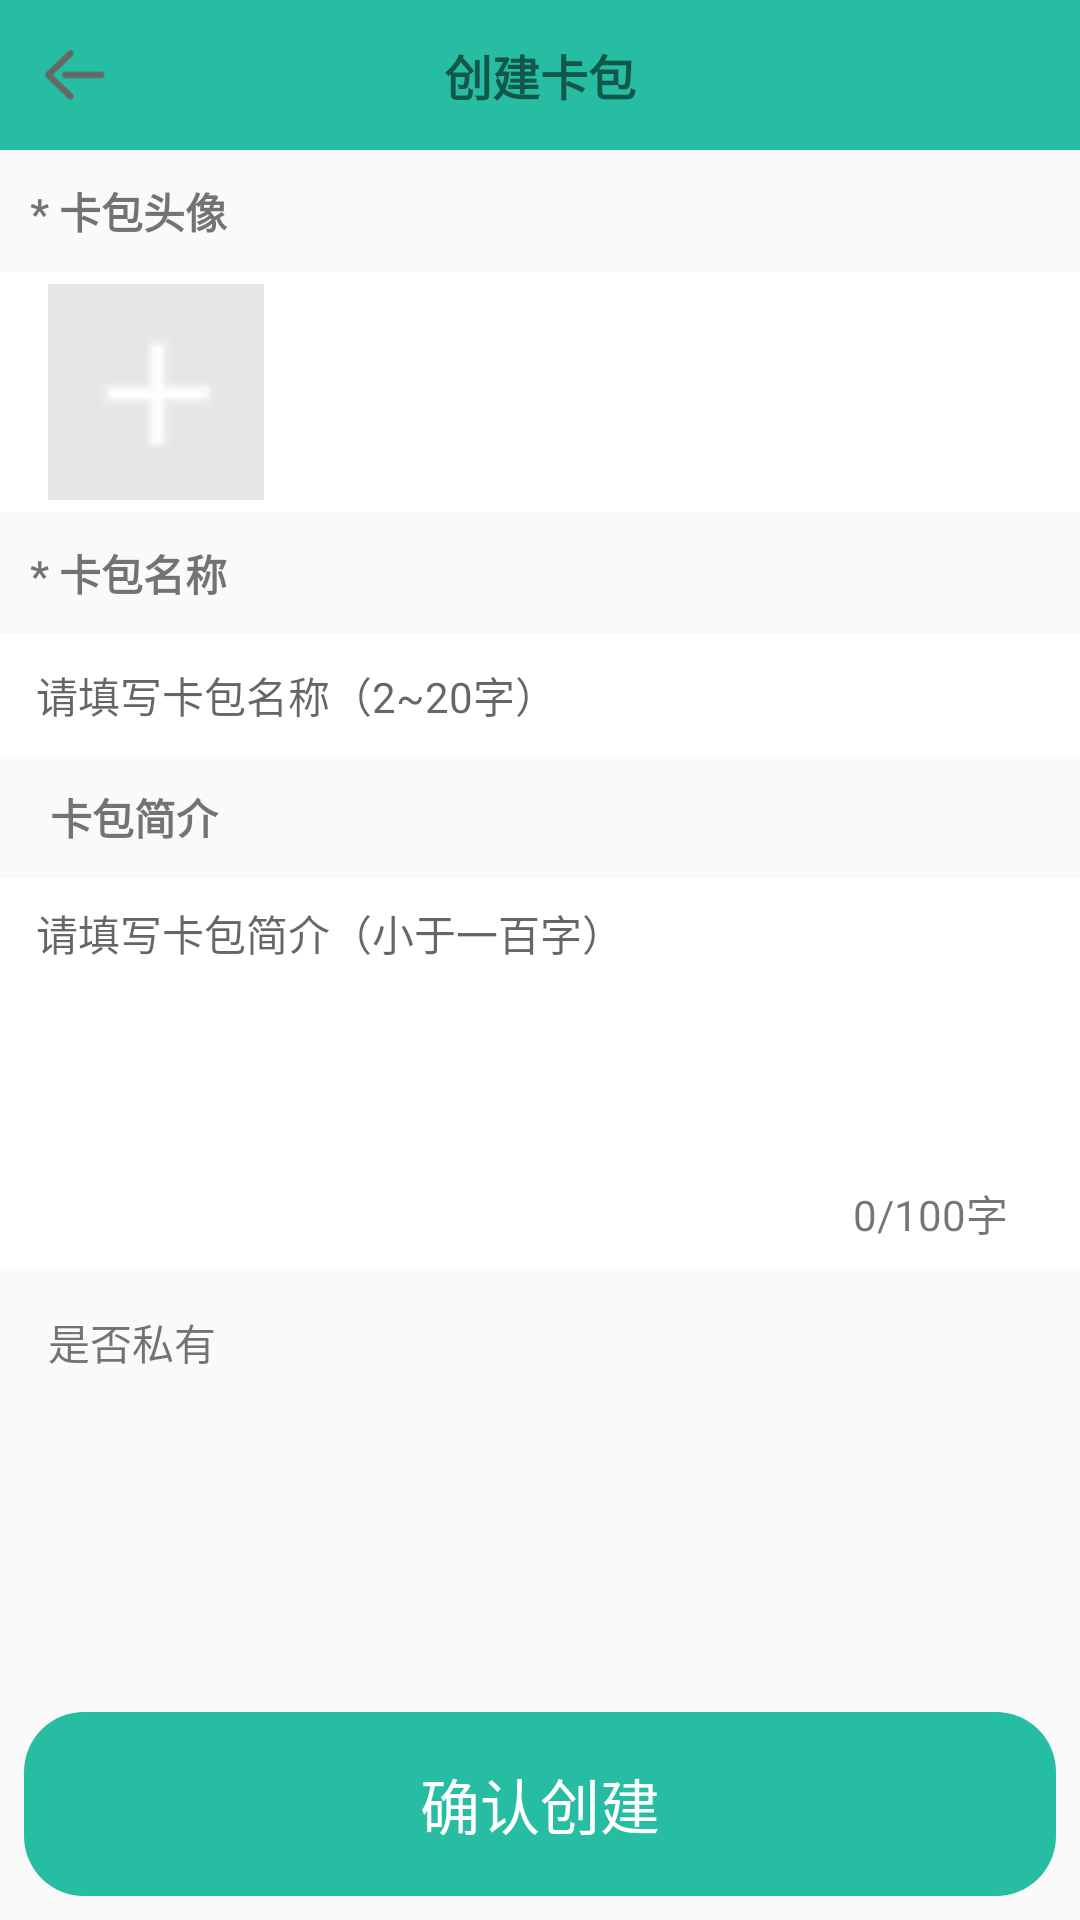

Where to tap for icons on this 1080 × 1920 app screen, as point (x, y):
add: point (156, 392)
back: point (75, 75)
